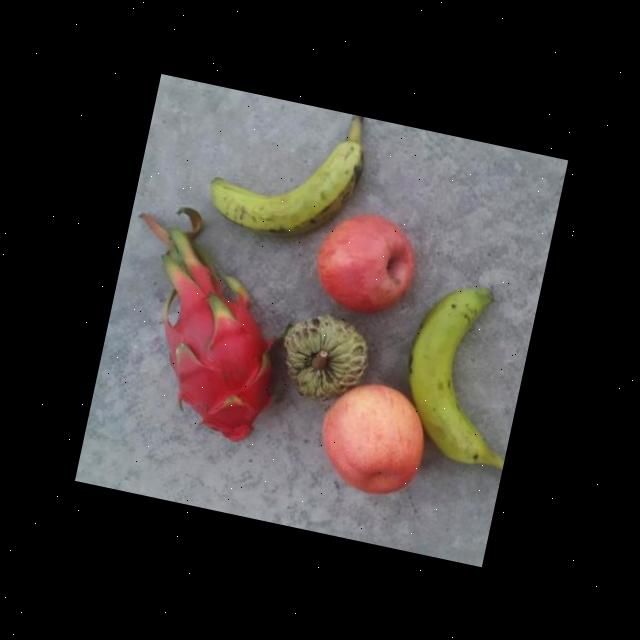Sakya fruit: (267, 306, 377, 413)
apple: (304, 372, 436, 505), (303, 204, 426, 322)
banana: (385, 273, 537, 476), (197, 106, 366, 251)
pitaya: (142, 282, 286, 448)
